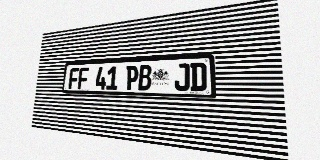1: (106, 66, 118, 90)
4: (95, 67, 107, 90)
B: (138, 65, 152, 90)
D: (190, 62, 207, 91)
F: (78, 67, 89, 89), (68, 68, 79, 89)
J: (174, 63, 190, 91)
P: (125, 65, 139, 90)
